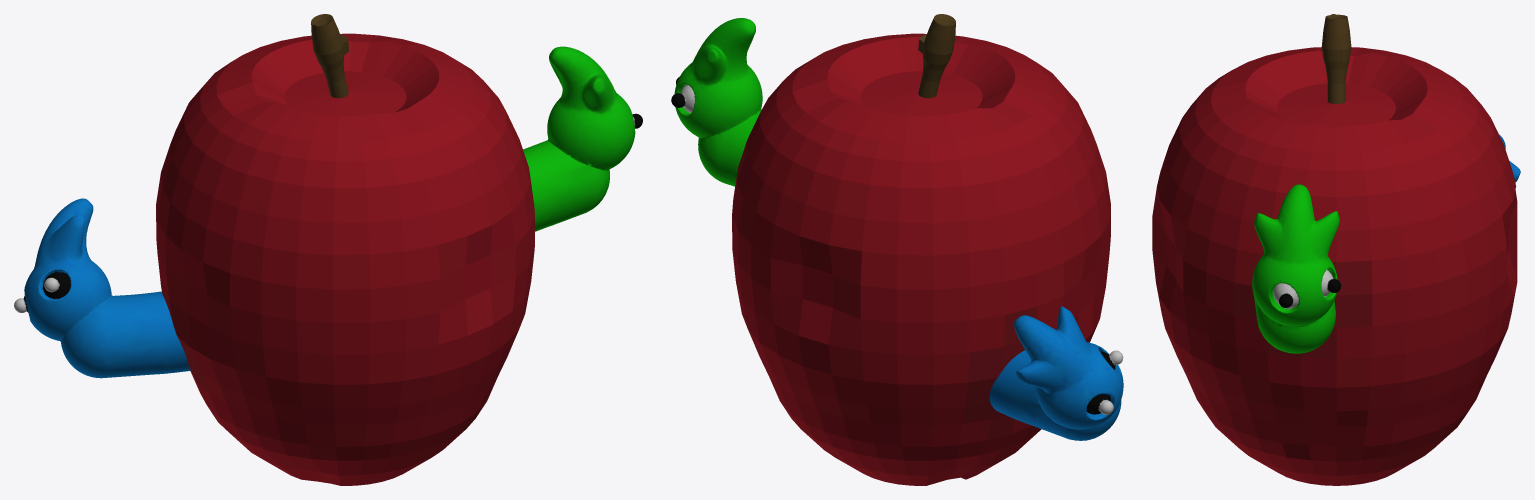
File: osyofv_redapple.gltf
3 views of the same model, side by side, from view 1: azimuth 30°, elevation 25°; view 2: azimuth 150°, elevation 25°; view 3: azimuth 270°, elevation 25° (orthographic). The views are drawn at different scales.
Parts seen in each view (by area): view 1: Apple, Layer_1.001, Layer_1; view 2: Apple, Layer_1.001, Layer_1; view 3: Apple, Layer_1.
Boxes of the visible parts, bbox=[...] form: Apple: bbox=[156, 14, 534, 485]; Layer_1.001: bbox=[14, 198, 190, 378]; Layer_1: bbox=[523, 46, 642, 231]; Apple: bbox=[732, 14, 1110, 485]; Layer_1.001: bbox=[989, 306, 1123, 440]; Layer_1: bbox=[671, 18, 762, 186]; Apple: bbox=[1152, 14, 1517, 485]; Layer_1: bbox=[1252, 184, 1341, 353].
Size of the model in its own units: 1.4 by 1.13 by 0.864.
